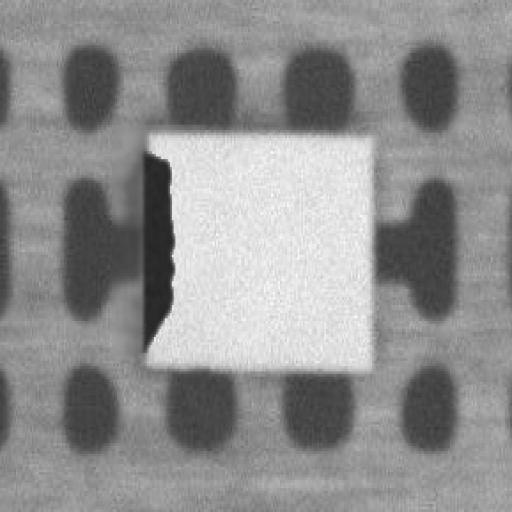DIE_BROKEN: (137, 140, 177, 340)
